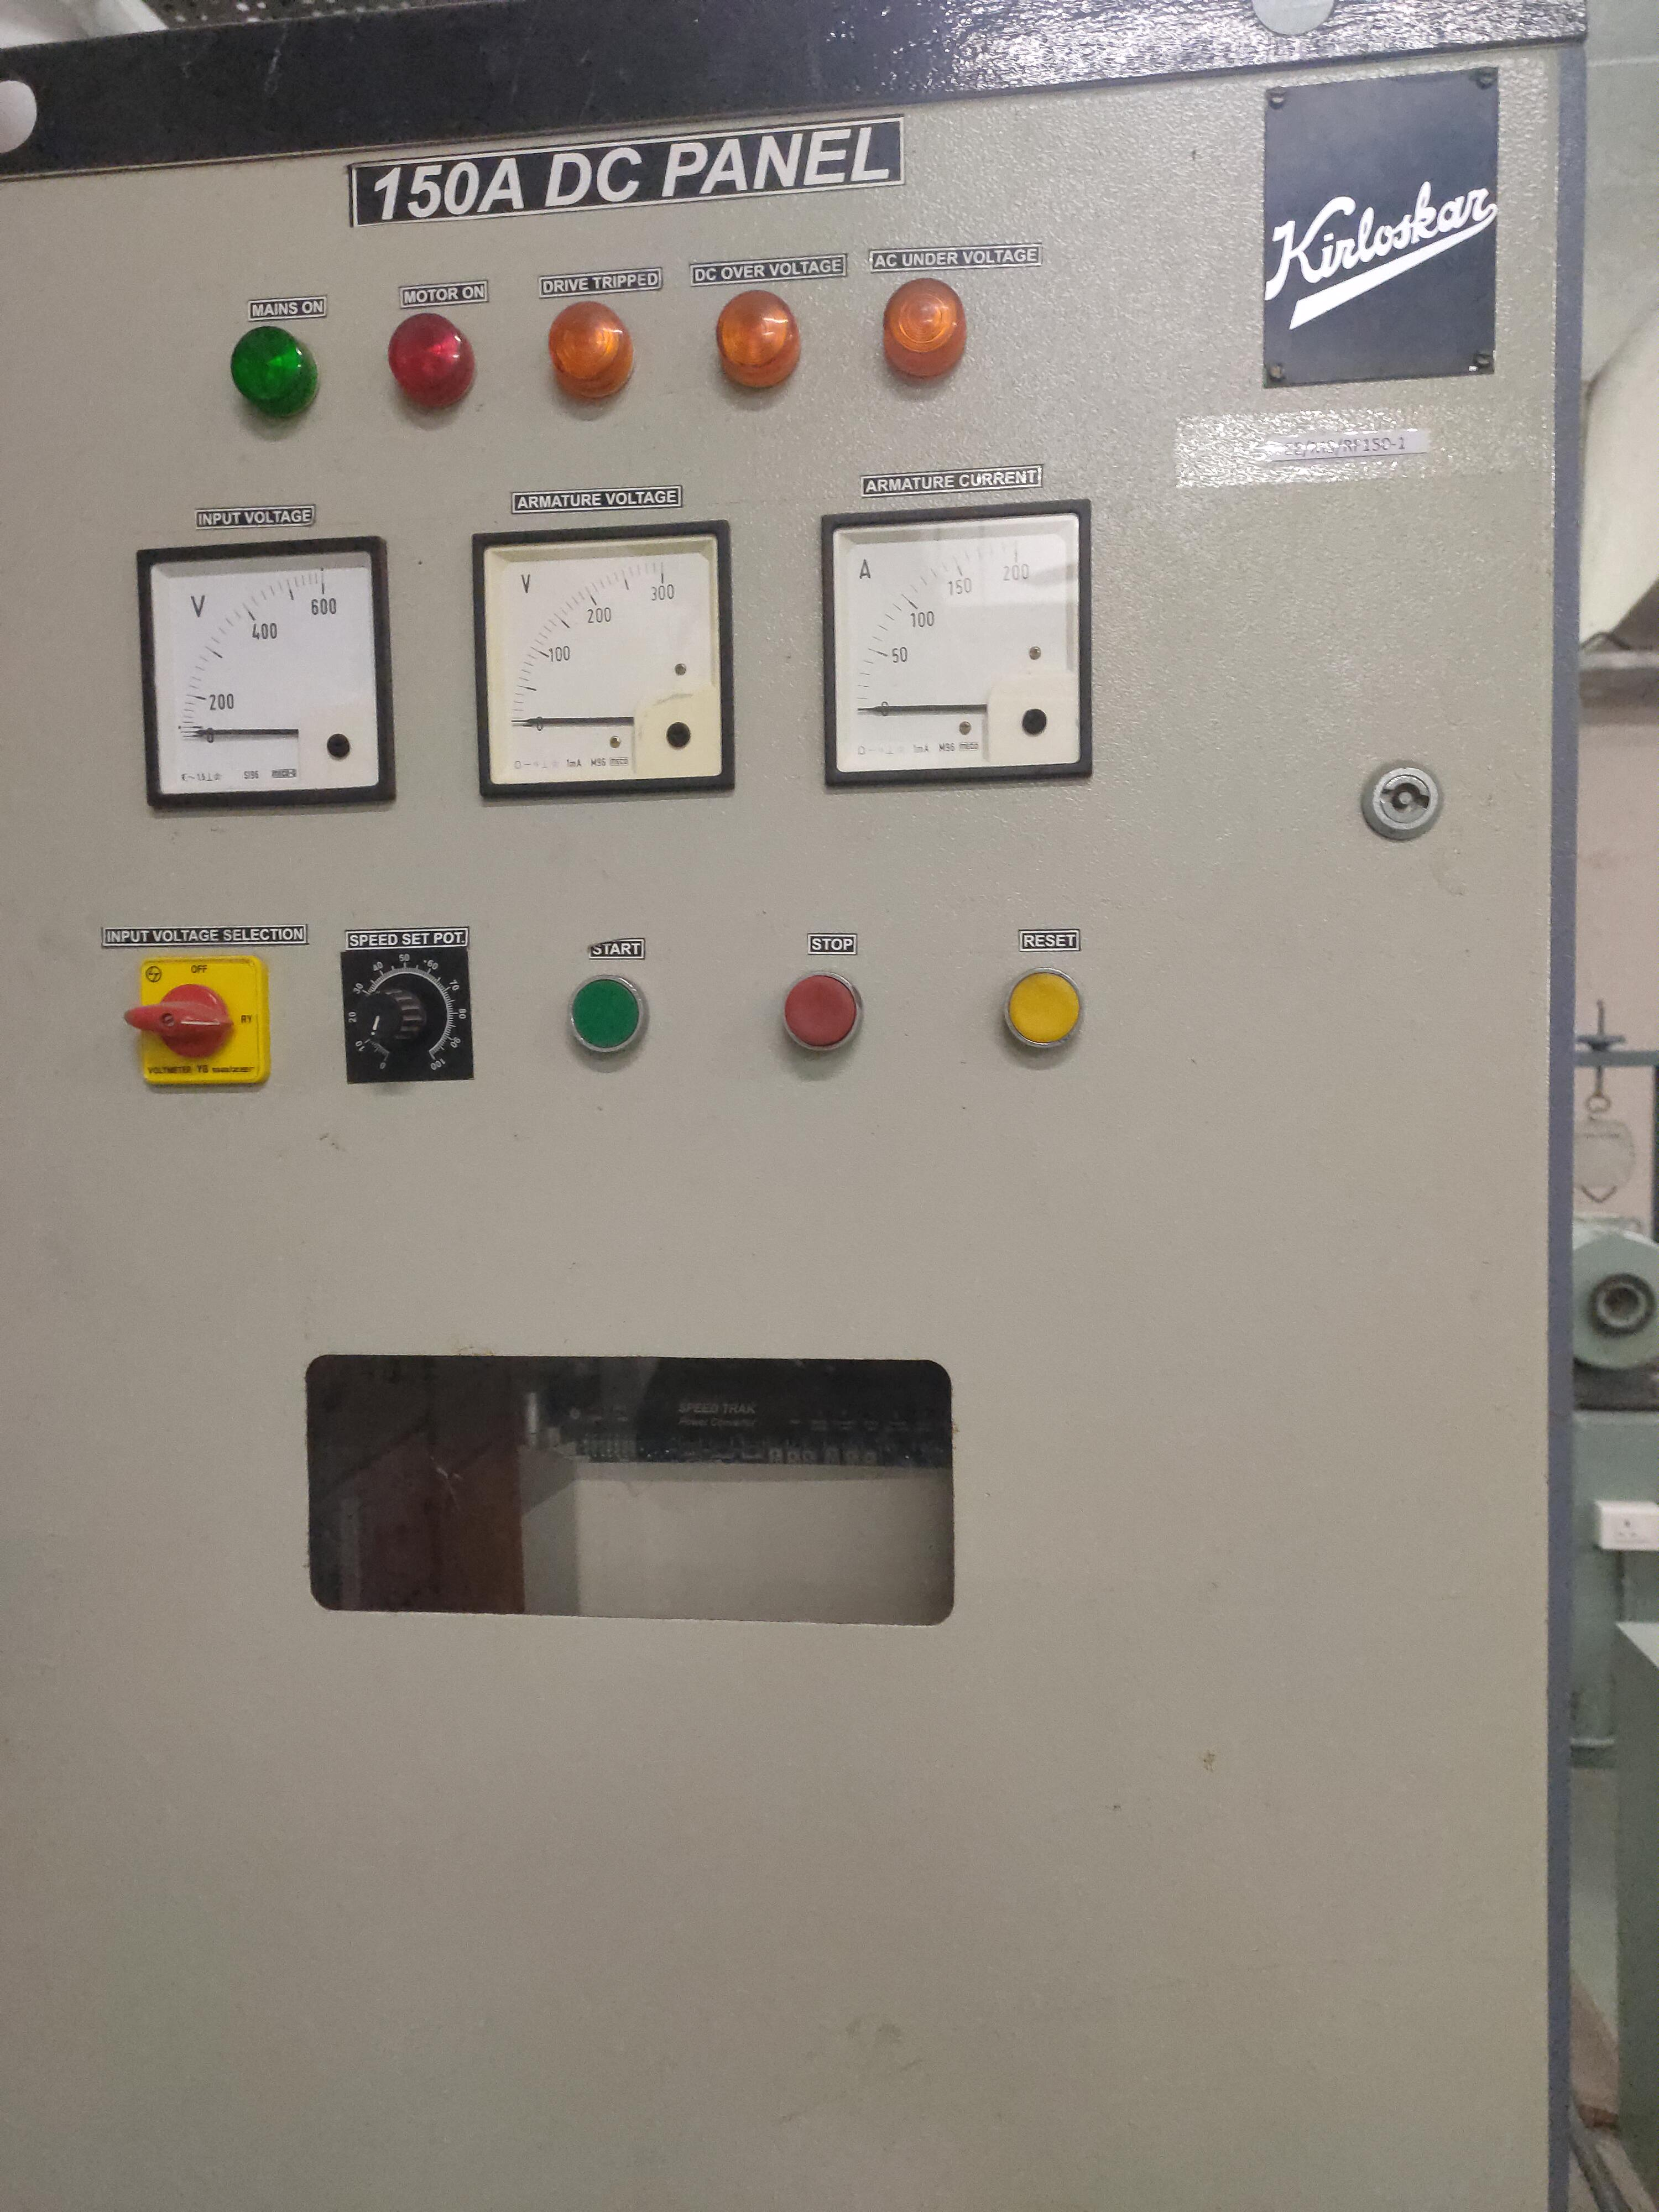Light Indications: (178, 233, 1014, 458)
